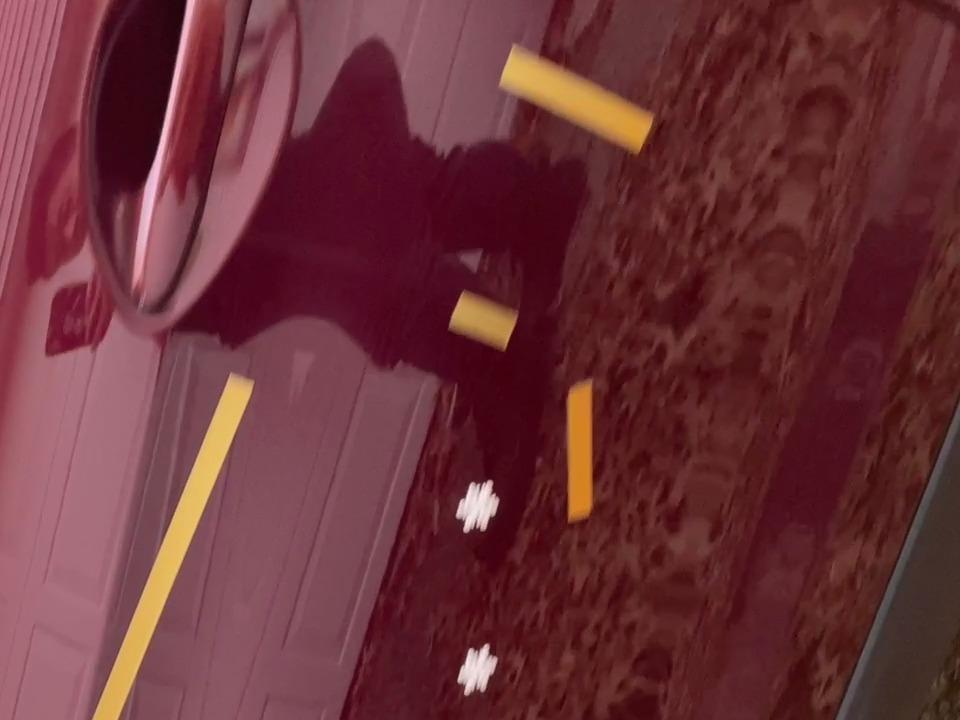dent: (449, 469, 518, 542), (451, 629, 502, 711)
scratch: (28, 361, 264, 720), (486, 34, 674, 171), (554, 371, 615, 527), (431, 279, 531, 354)
